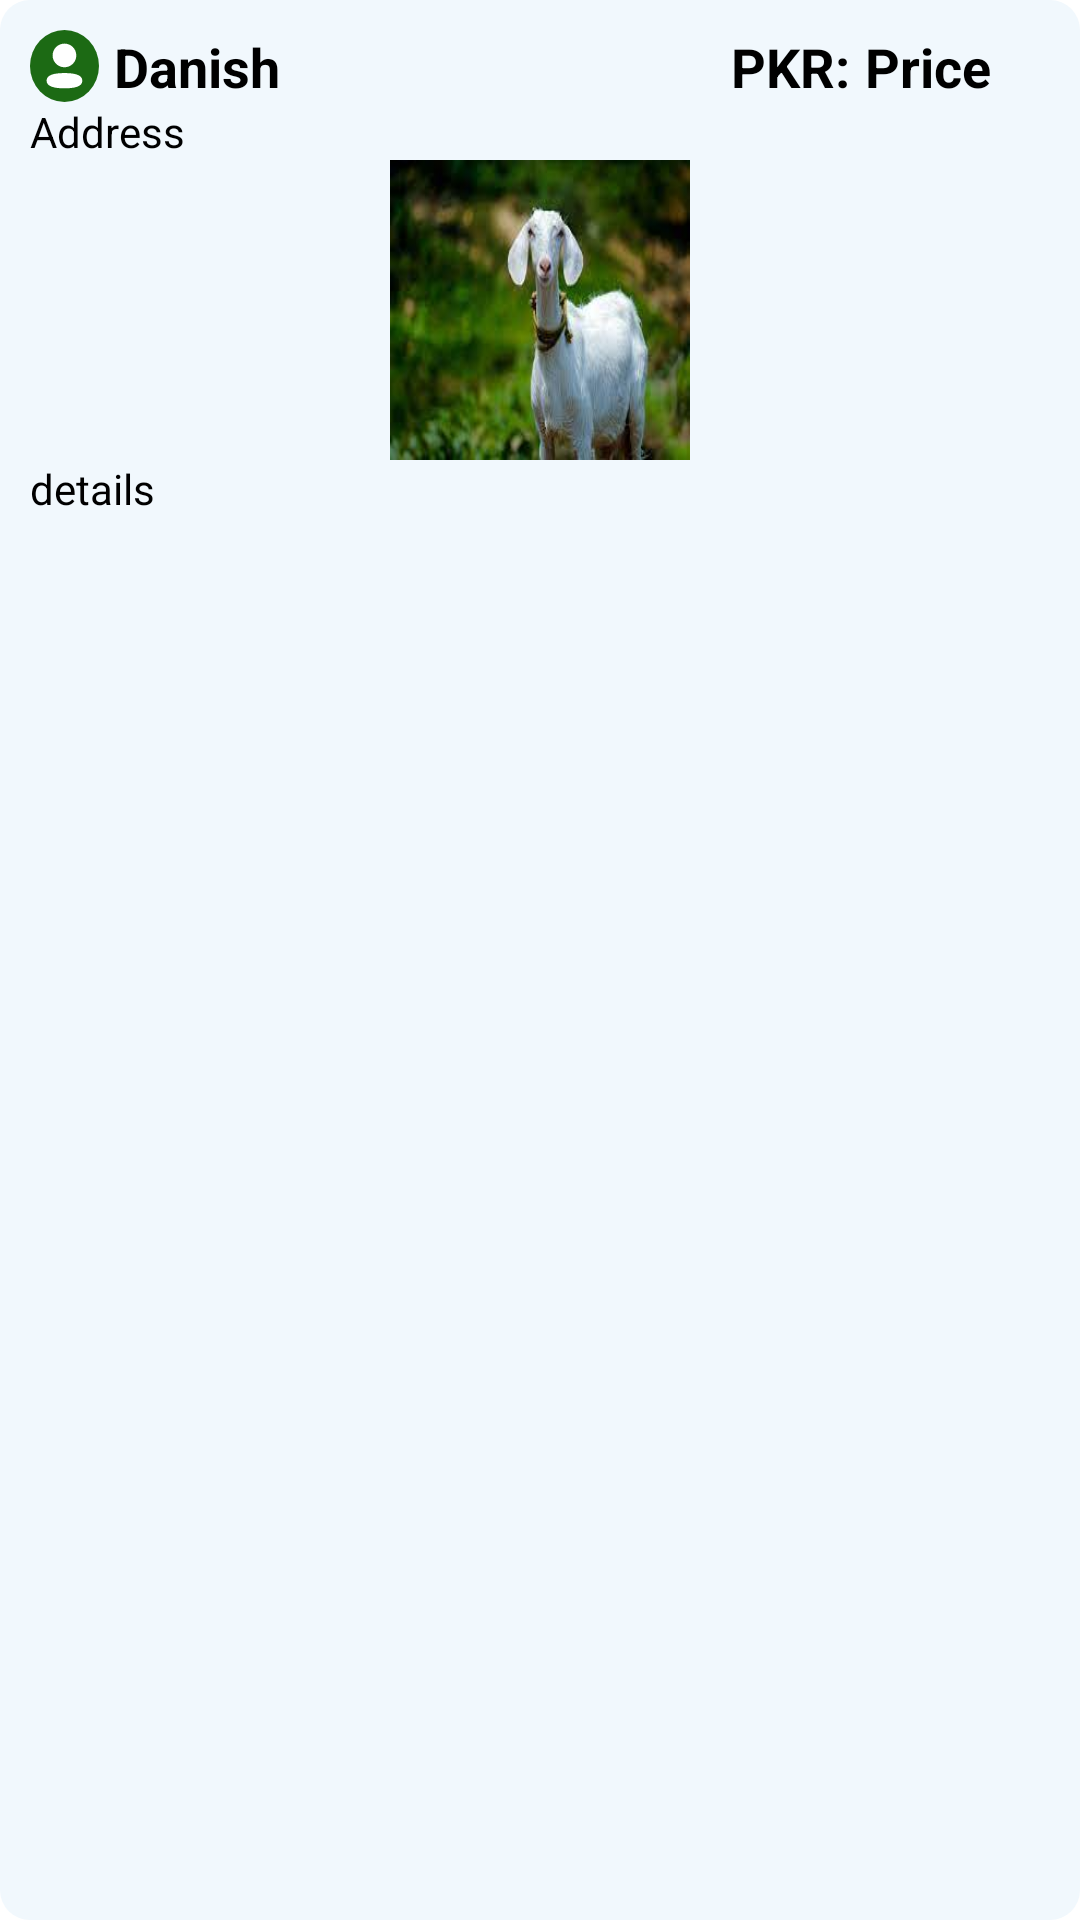

Screen size 1080w x 1920h. Icon name, then its center in pixels as (x=x, y=y):
picon: (x=64, y=66)
